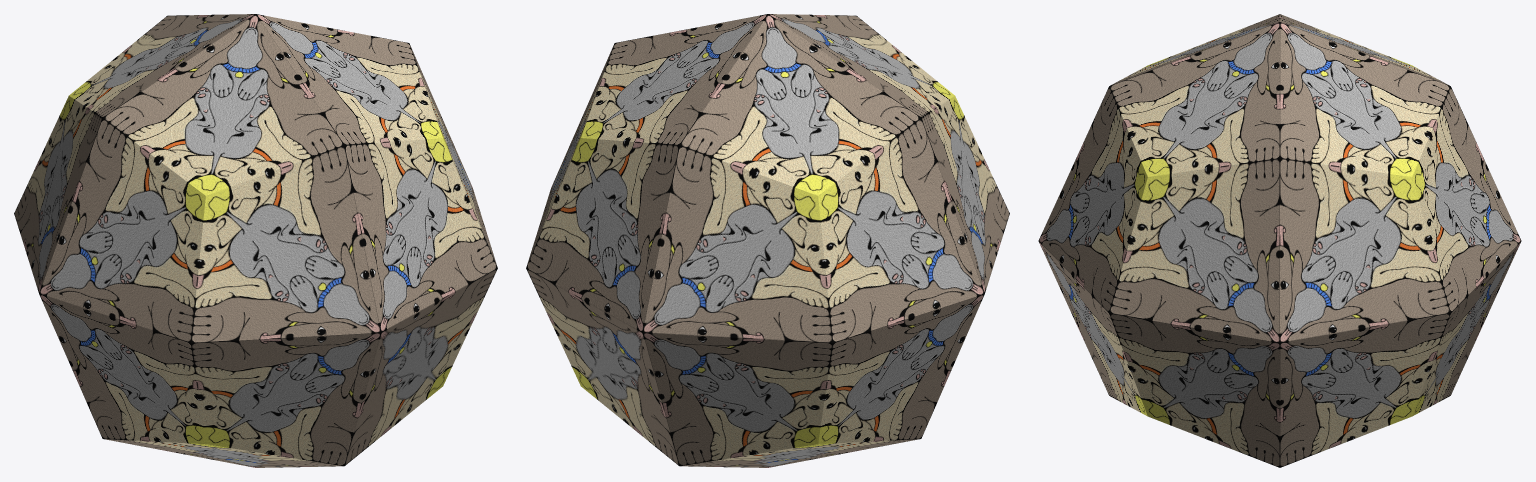
Rendered from DeltoidalIcositetrahedron26.obj.
The picture shows the model from 3 angles, left to right: view 1: azimuth 30°, elevation 25°; view 2: azimuth 150°, elevation 25°; view 3: azimuth 270°, elevation 25°; orthographic projection. The views are drawn at different scales.
Size of the model in its own units: 2.83 by 2.83 by 2.83.
1 material, 1 textured.
